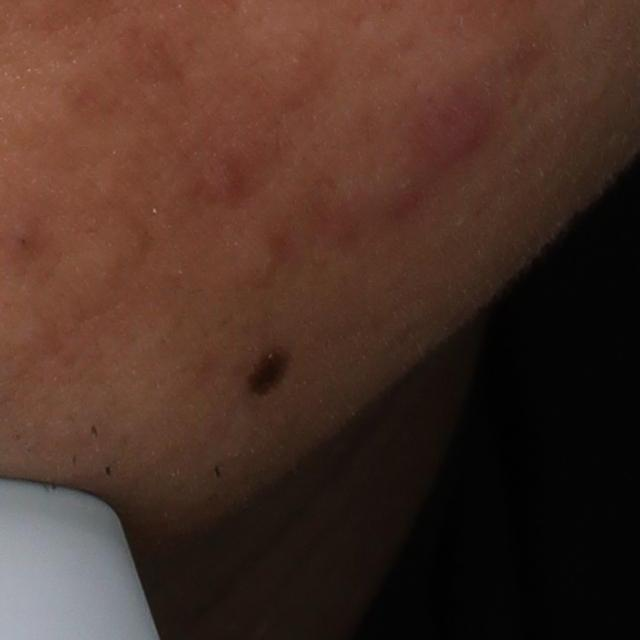nevus: (247, 344, 293, 396)
